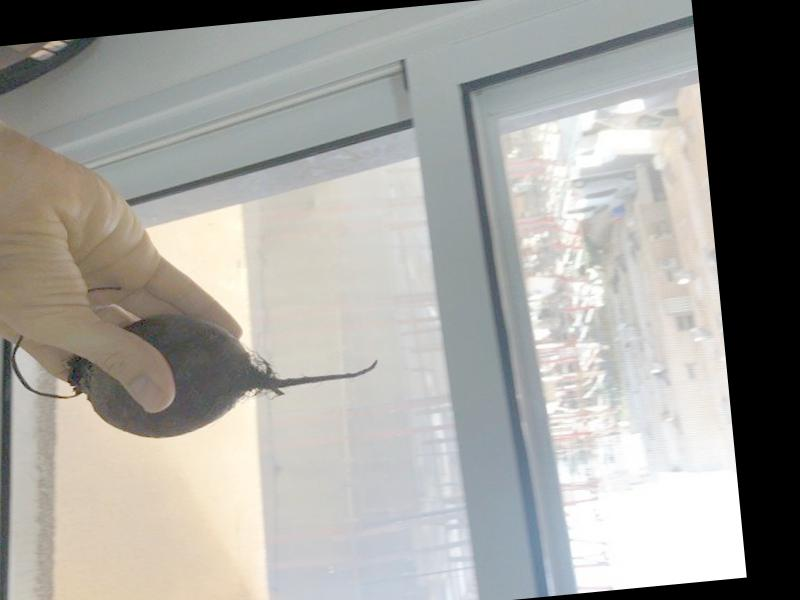Beet: (5, 260, 384, 451)
